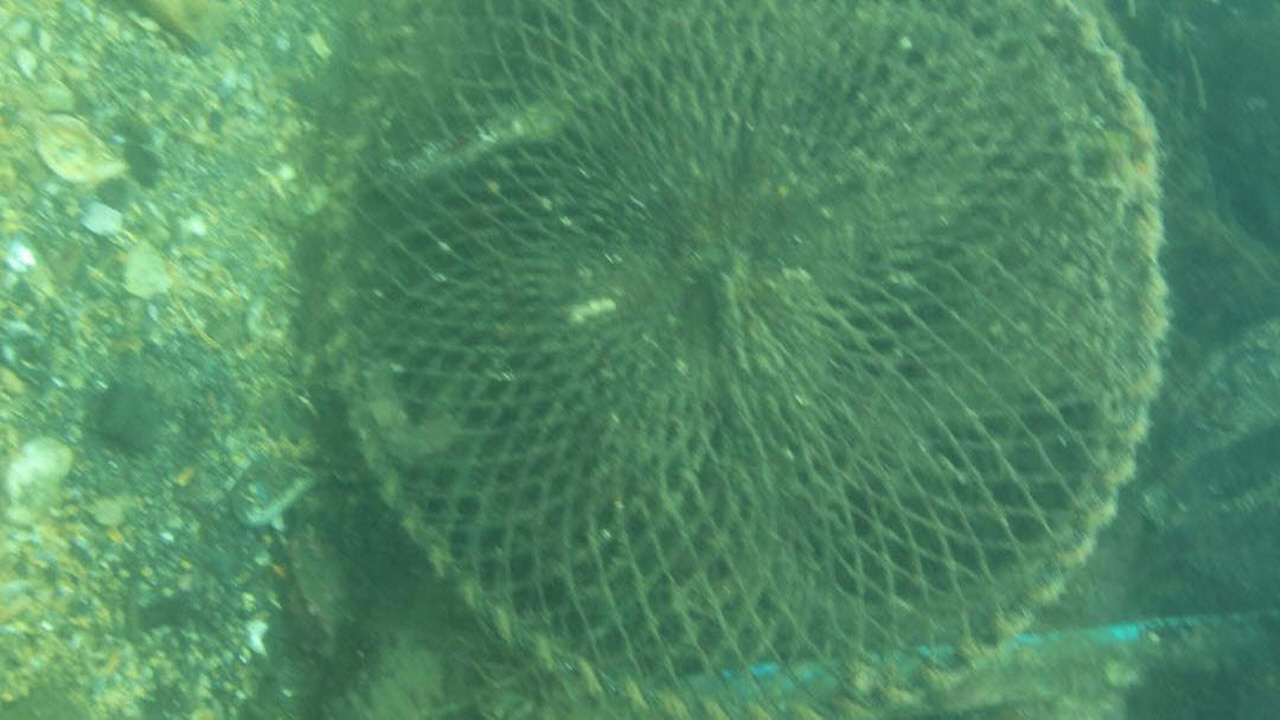circular fish trap: (325, 0, 1165, 720)
